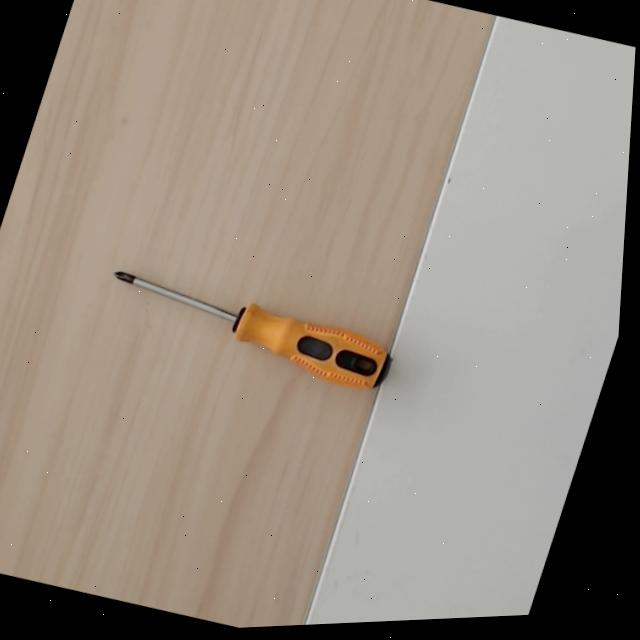Obeng-Besar: (103, 263, 396, 395)
